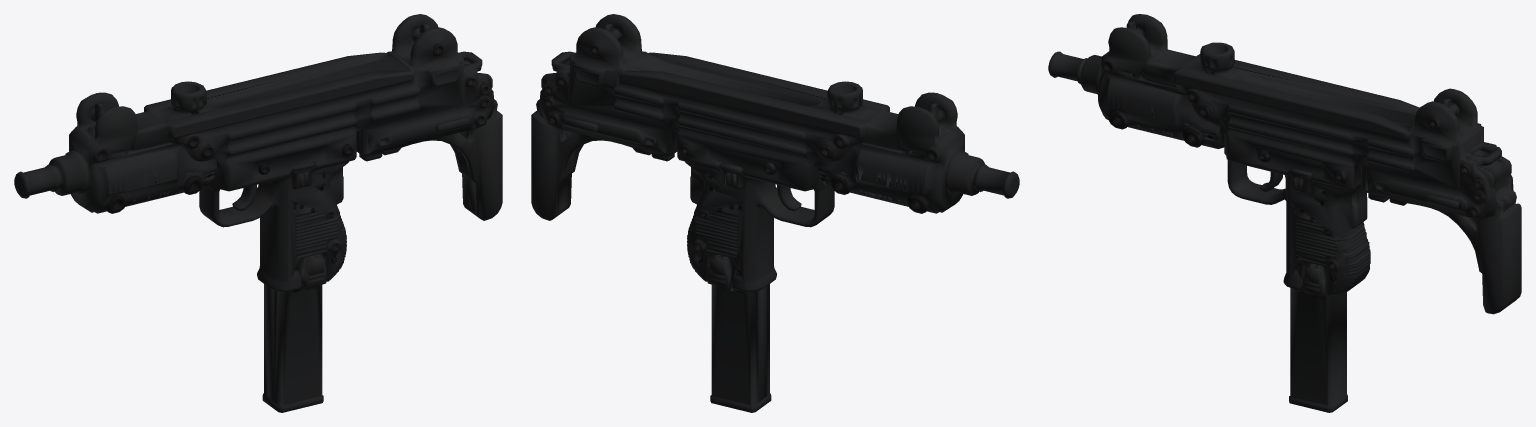
3 views of the same model, side by side, from view 1: azimuth 30°, elevation 25°; view 2: azimuth 150°, elevation 25°; view 3: azimuth 330°, elevation 25° (orthographic). The views are drawn at different scales.
Visible parts, largest first — view 1: material; view 2: material; view 3: material.
Part boxes in pixels (x1,y1,x2,y2): material: (14,14,502,412); material: (531,14,1019,412); material: (1048,14,1521,412).
Bounding box in the file's own units: 190 × 133 × 24.41.
1 material, 1 textured.
